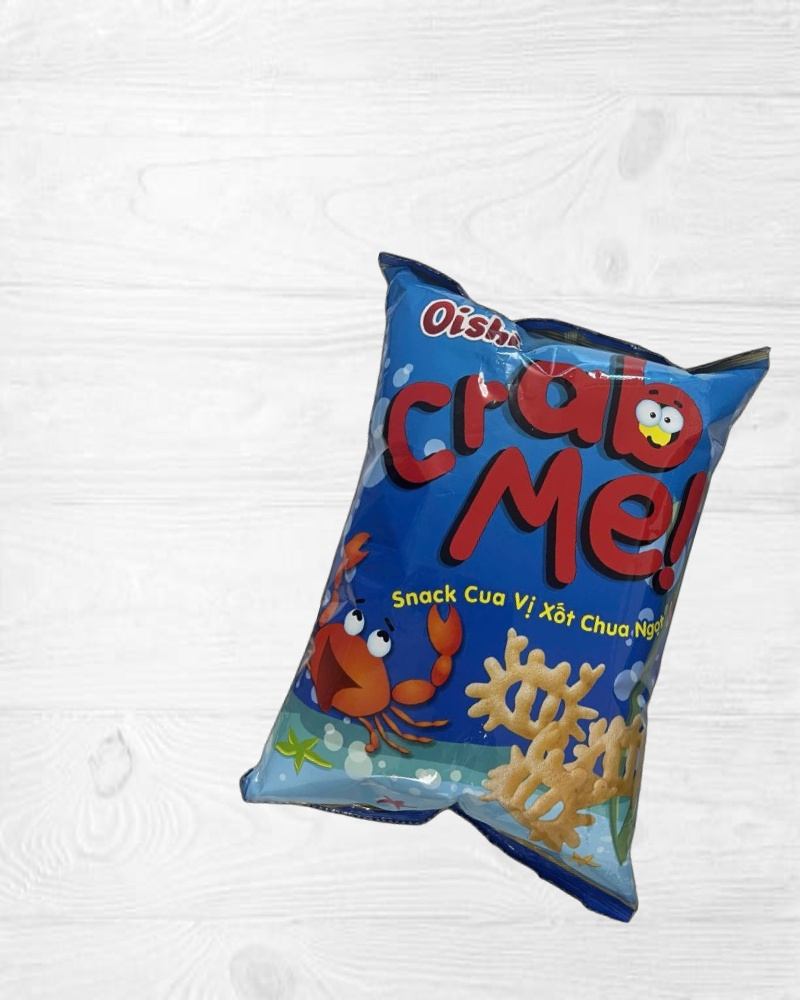Snack chay: (229, 245, 786, 927)
